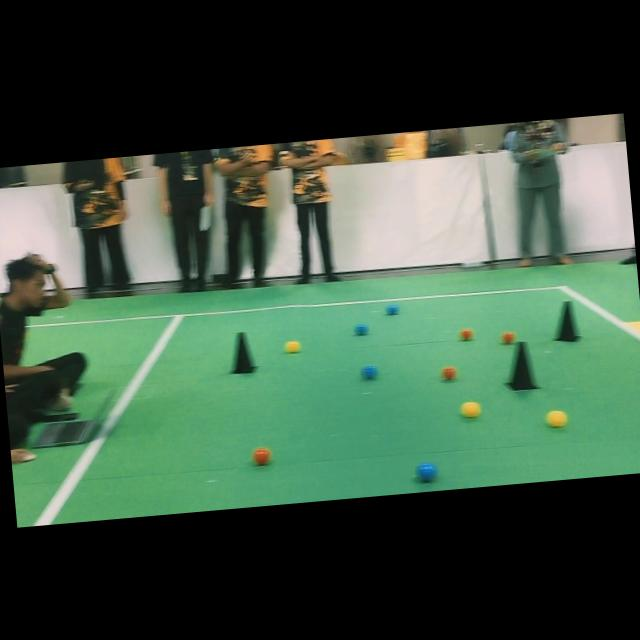ball: (416, 462, 436, 481), (546, 410, 567, 426), (252, 447, 270, 465), (461, 401, 481, 416), (441, 365, 457, 379), (361, 365, 377, 379), (501, 331, 516, 344), (459, 327, 474, 340), (284, 340, 300, 352), (353, 324, 369, 334), (385, 304, 398, 315)
